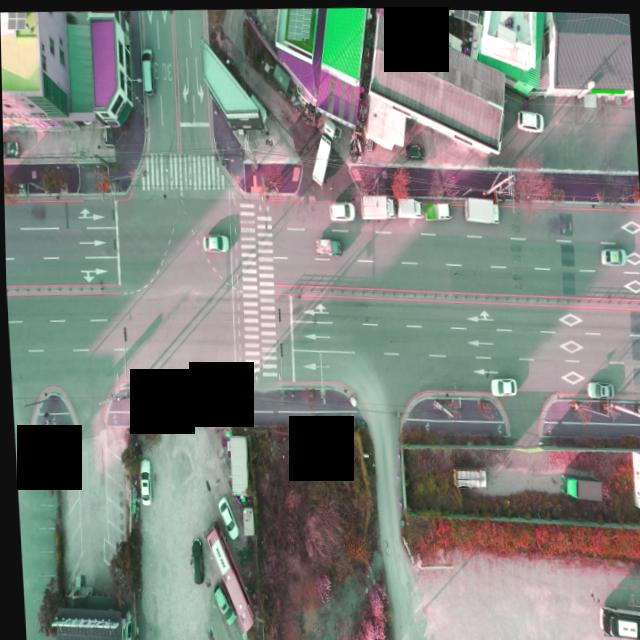car: (207, 576, 234, 621), (213, 491, 238, 538), (138, 47, 155, 100), (513, 106, 543, 129), (199, 230, 226, 252), (136, 458, 149, 502), (328, 199, 353, 220), (584, 377, 611, 396), (188, 534, 199, 580), (597, 243, 622, 263), (488, 375, 513, 395), (403, 137, 422, 160)
large_bus: (200, 514, 254, 631), (594, 597, 640, 640)
medium_truck: (307, 116, 339, 186), (556, 466, 601, 503), (460, 192, 497, 224), (357, 191, 394, 218)
small_truck: (448, 462, 485, 489), (394, 191, 423, 218), (422, 194, 450, 221), (311, 235, 337, 256)
